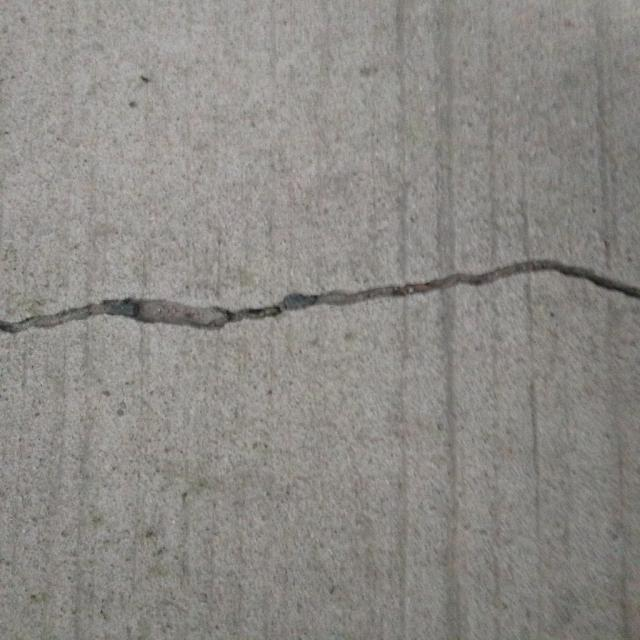cracks: (1, 280, 337, 344), (313, 267, 640, 322)
